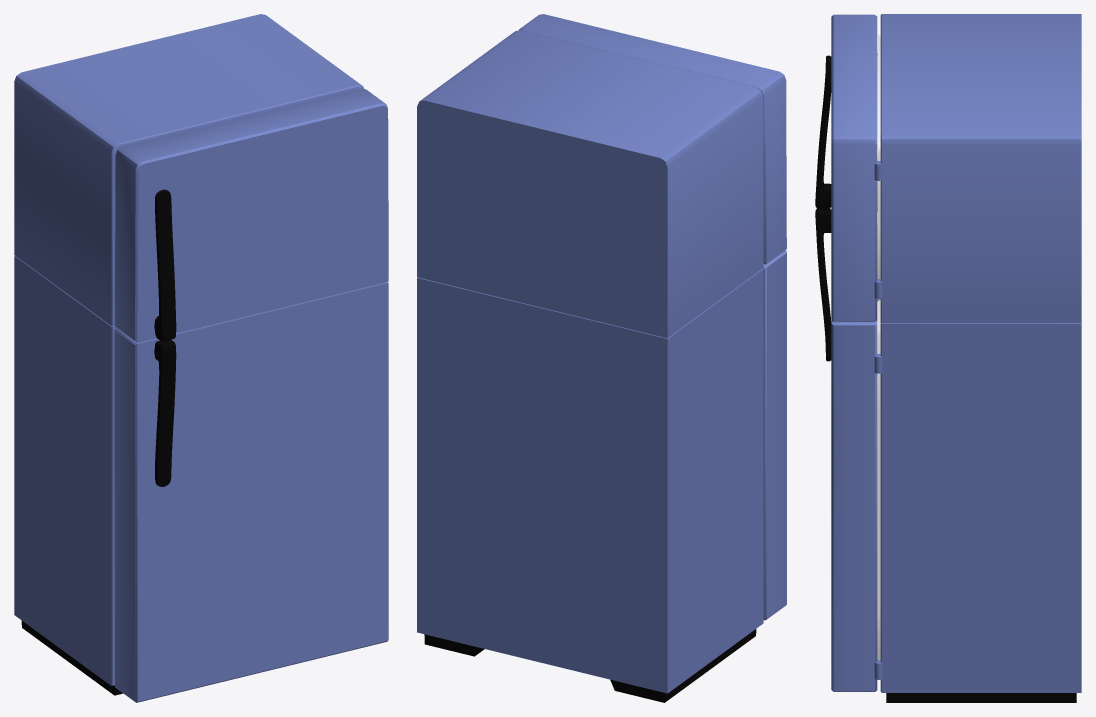
File: Fridge1.fbx
3 views of the same model, side by side, from view 1: azimuth 30°, elevation 25°; view 2: azimuth 150°, elevation 25°; view 3: azimuth 270°, elevation 25° (orthographic). The views are drawn at different scales.
Visible parts, largest first — view 1: BottomDoor1, FridgeBody1, FreezerDoor1; view 2: FridgeBody1, FreezerDoor1, BottomDoor1; view 3: FridgeBody1, BottomDoor1, FreezerDoor1, BottomDoorInterior1, FreezerDoorInterior1.
Part boxes in pixels (left/top/right/bottom): BottomDoor1: left=114, top=282, right=388, bottom=702; FridgeBody1: left=14, top=14, right=364, bottom=695; FreezerDoor1: left=114, top=88, right=388, bottom=342; FridgeBody1: left=417, top=30, right=763, bottom=702; FreezerDoor1: left=519, top=14, right=786, bottom=264; BottomDoor1: left=763, top=250, right=786, bottom=620; FridgeBody1: left=880, top=14, right=1081, bottom=702; BottomDoor1: left=815, top=208, right=882, bottom=691; FreezerDoor1: left=815, top=14, right=882, bottom=321; BottomDoorInterior1: left=877, top=299, right=880, bottom=660; FreezerDoorInterior1: left=877, top=35, right=880, bottom=301.
Size of the model in its own units: 707 by 1458 by 619.
